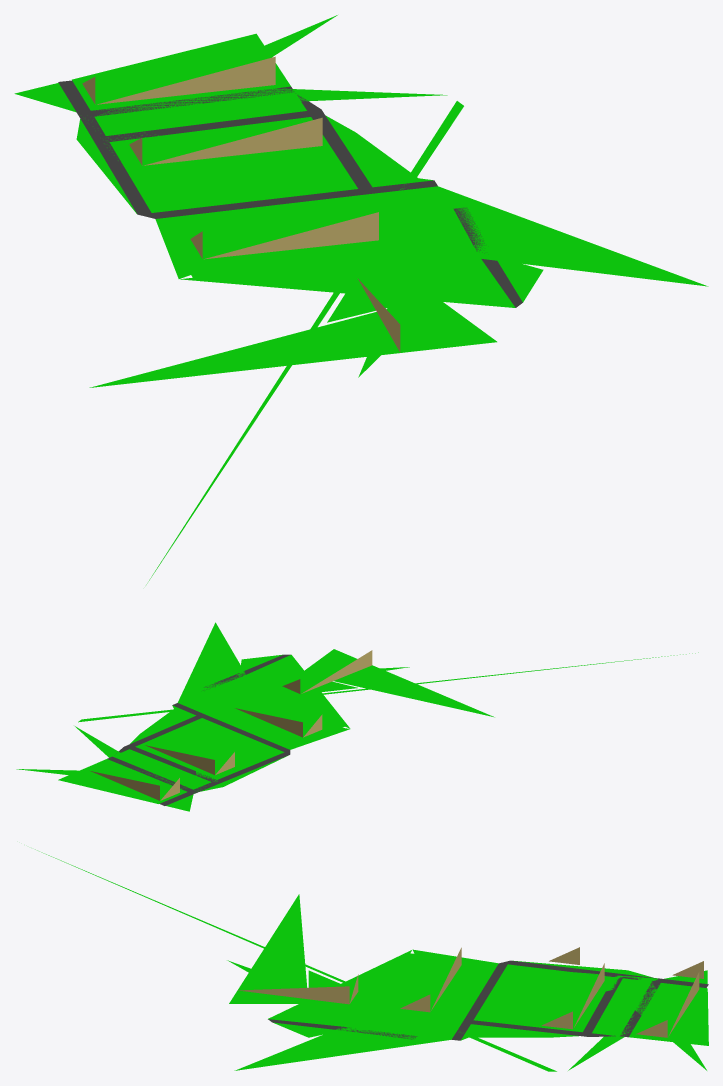
3 renders of one model, top to bottom at view 1: azimuth 30°, elevation 25°; view 2: azimuth 150°, elevation 25°; view 3: azimuth 270°, elevation 25°, orthographic. The views are drawn at different scales.
Bounding box in the file's own units: 205 × 7.5 × 261.
